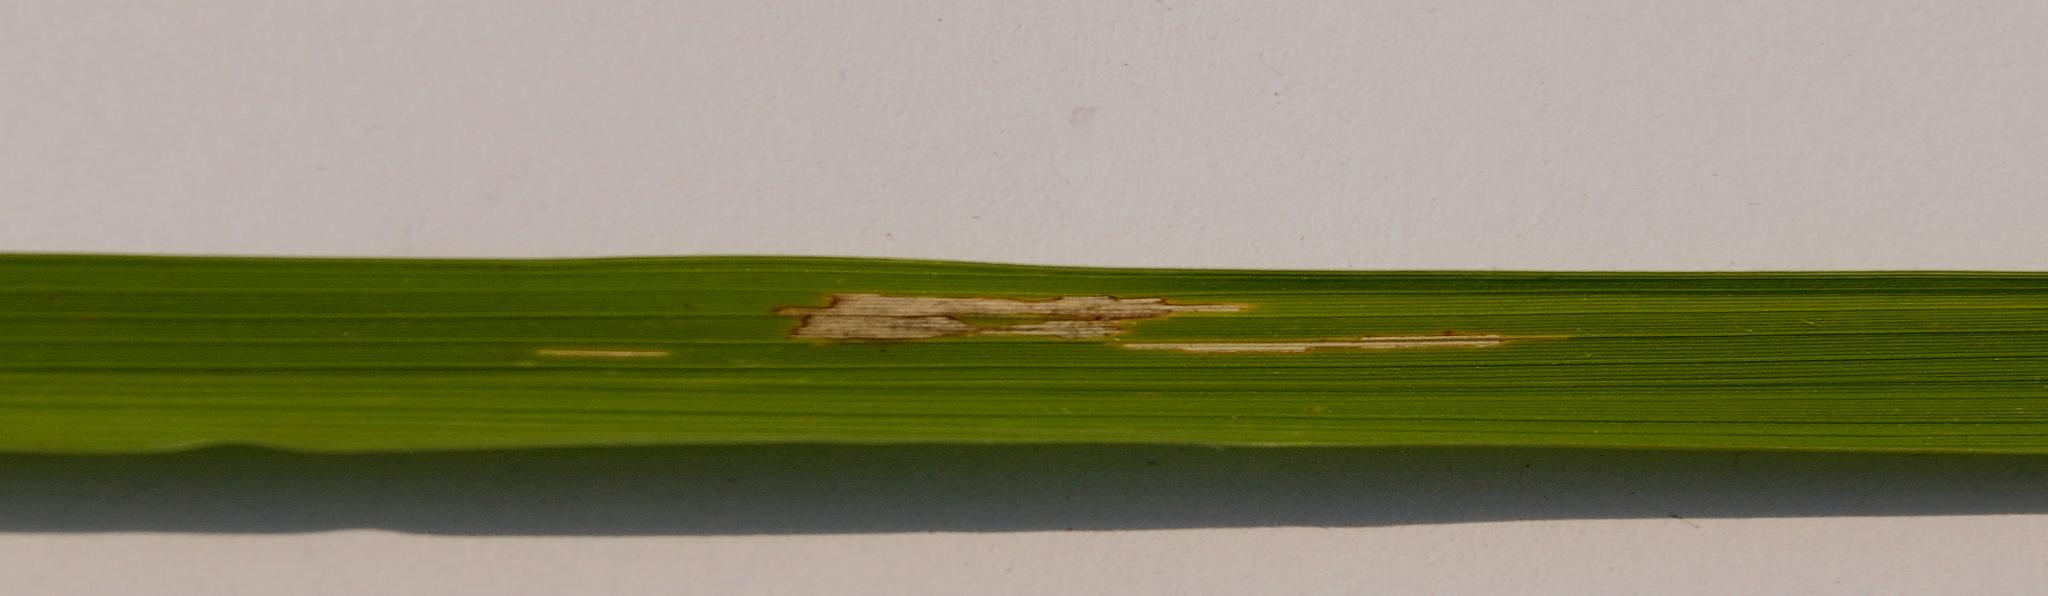2 BacterialBlight: (499, 281, 1719, 403)
